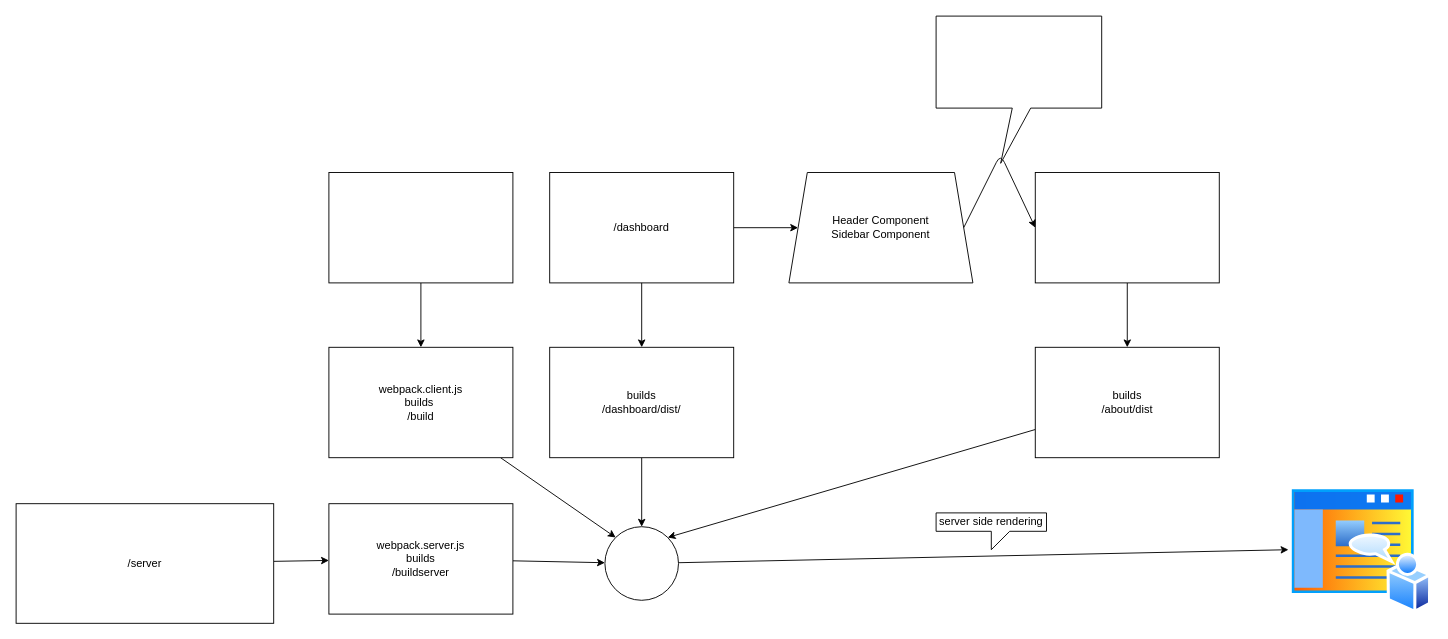
This 1448x639 diagram has some shape labels left out. The shapes that lost their labels are listed below. From the top down, each one's centre as x and y in pixels, then its label:
point (1018, 89): Federated dashboard components fo About page
point (420, 227): Client /src
point (1126, 227): /about
point (641, 563): running server
